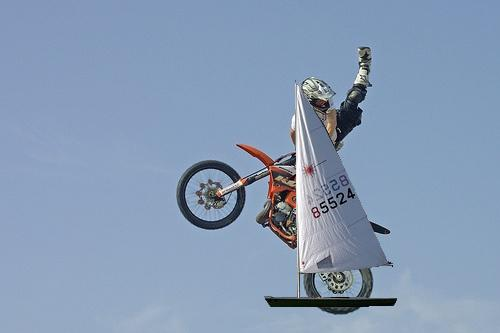tampered: (265, 81, 397, 307)
